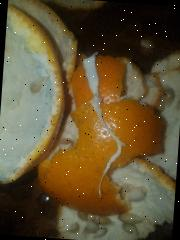organic: (58, 46, 170, 220)
